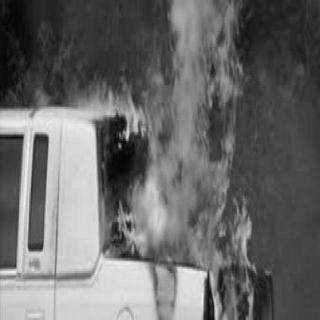Fire: (98, 0, 252, 313)
